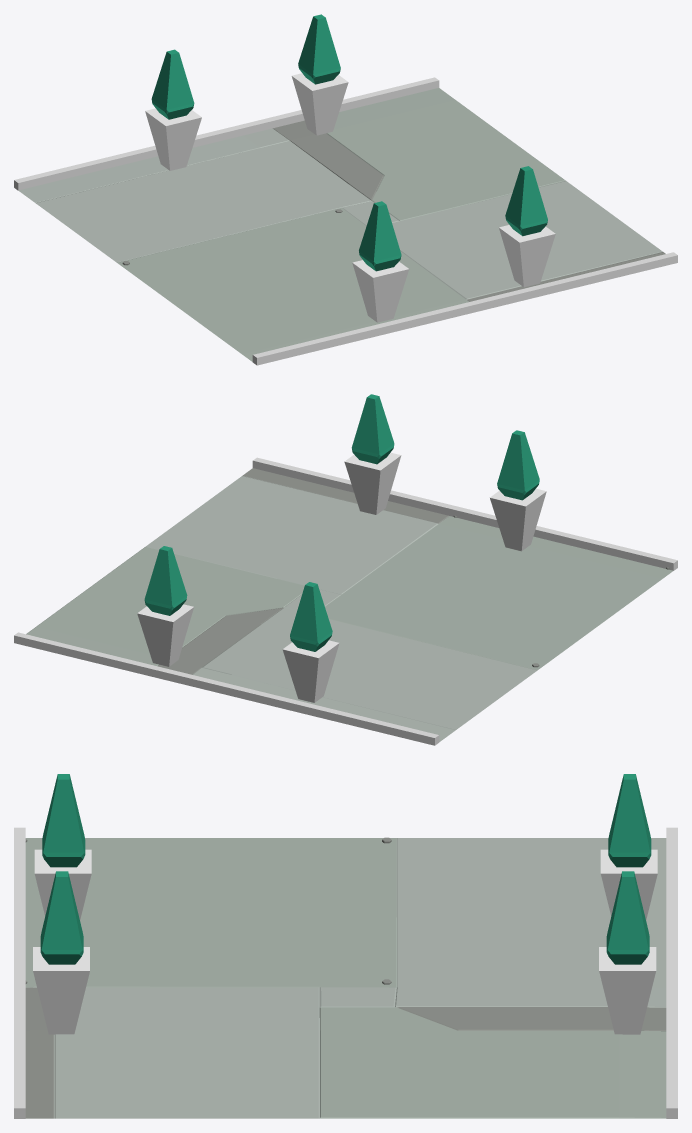
3 views of the same model, one above another, from view 1: azimuth 30°, elevation 25°; view 2: azimuth 150°, elevation 25°; view 3: azimuth 270°, elevation 25° (orthographic). The views are drawn at different scales.
Visible parts, largest first — view 1: Scifi_Panel_04_Plaza014_group4.021_Scifi_Panel_04_Plaza014_g, Cube.924_Cube.1049, Cube.923_Cube.1048, base_singlePot01.016_base_singlePot01.022, base_singlePot01.015_base_singlePot01.021, base_singlePot01.017_base_singlePot01.023, base_singlePot01.014_base_singlePot01.020; view 2: Scifi_Panel_04_Plaza014_group4.021_Scifi_Panel_04_Plaza014_g, Cube.923_Cube.1048, Cube.924_Cube.1049, base_singlePot01.014_base_singlePot01.020, base_singlePot01.015_base_singlePot01.021, base_singlePot01.017_base_singlePot01.023, base_singlePot01.016_base_singlePot01.022; view 3: Scifi_Panel_04_Plaza014_group4.021_Scifi_Panel_04_Plaza014_g, base_singlePot01.014_base_singlePot01.020, base_singlePot01.017_base_singlePot01.023, base_singlePot01.015_base_singlePot01.021, base_singlePot01.016_base_singlePot01.022, Cube.924_Cube.1049, Cube.923_Cube.1048.
Part boxes in pixels (x1=…): Scifi_Panel_04_Plaza014_group4.021_Scifi_Panel_04_Plaza014_g: x1=18, y1=88, x2=665, y2=361; Cube.924_Cube.1049: x1=252, y1=252, x2=677, y2=365; Cube.923_Cube.1048: x1=14, y1=77, x2=439, y2=190; base_singlePot01.016_base_singlePot01.022: x1=352, y1=201, x2=409, y2=322; base_singlePot01.015_base_singlePot01.021: x1=145, y1=49, x2=201, y2=170; base_singlePot01.017_base_singlePot01.023: x1=499, y1=166, x2=555, y2=287; base_singlePot01.014_base_singlePot01.020: x1=291, y1=14, x2=348, y2=135; Scifi_Panel_04_Plaza014_group4.021_Scifi_Panel_04_Plaza014_g: x1=26, y1=468, x2=673, y2=741; Cube.923_Cube.1048: x1=14, y1=632, x2=439, y2=745; Cube.924_Cube.1049: x1=252, y1=457, x2=677, y2=570; base_singlePot01.014_base_singlePot01.020: x1=137, y1=546, x2=193, y2=666; base_singlePot01.015_base_singlePot01.021: x1=282, y1=582, x2=339, y2=702; base_singlePot01.017_base_singlePot01.023: x1=344, y1=394, x2=401, y2=514; base_singlePot01.016_base_singlePot01.022: x1=490, y1=430, x2=546, y2=551; Scifi_Panel_04_Plaza014_group4.021_Scifi_Panel_04_Plaza014_g: x1=25, y1=837, x2=666, y2=1118; base_singlePot01.014_base_singlePot01.020: x1=599, y1=871, x2=656, y2=1034; base_singlePot01.017_base_singlePot01.023: x1=33, y1=871, x2=89, y2=1034; base_singlePot01.015_base_singlePot01.021: x1=600, y1=774, x2=657, y2=920; base_singlePot01.016_base_singlePot01.022: x1=34, y1=774, x2=91, y2=919; Cube.924_Cube.1049: x1=14, y1=827, x2=25, y2=1118; Cube.923_Cube.1048: x1=666, y1=827, x2=677, y2=1118.
Bounding box in the file's own units: 10 × 2.59 × 10.
